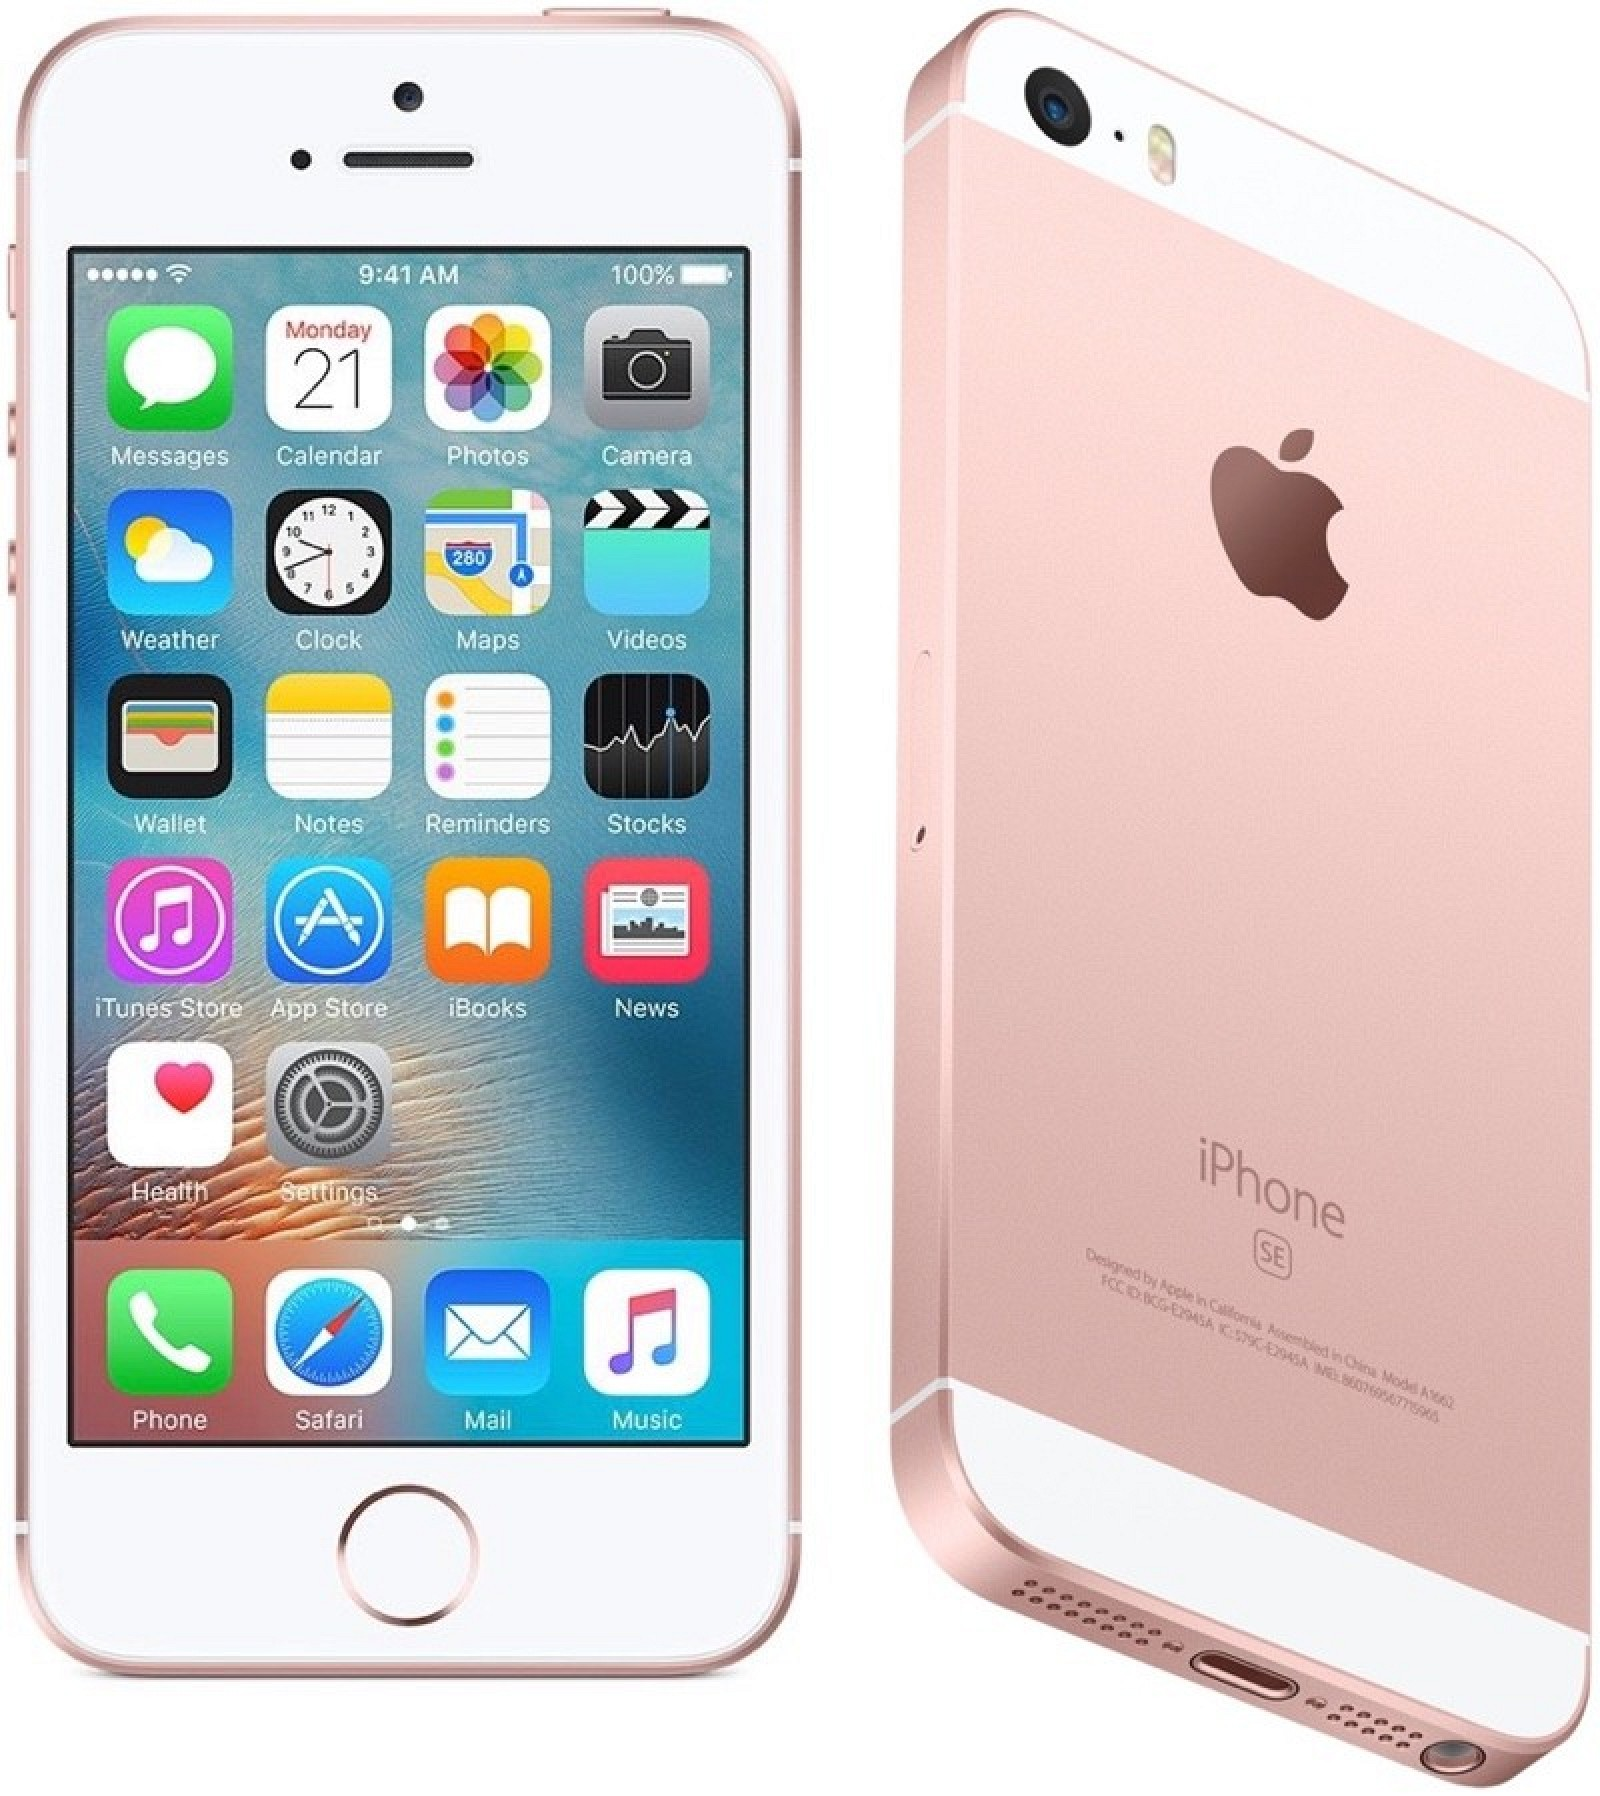smartphone: (6, 5, 805, 1679), (893, 8, 1592, 1788)
